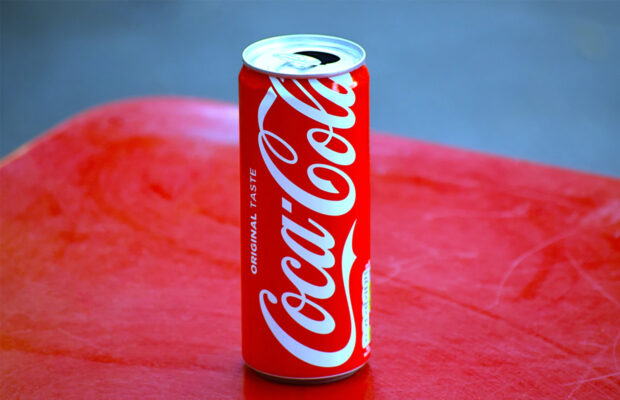Coca-Cola: (227, 38, 377, 388)
